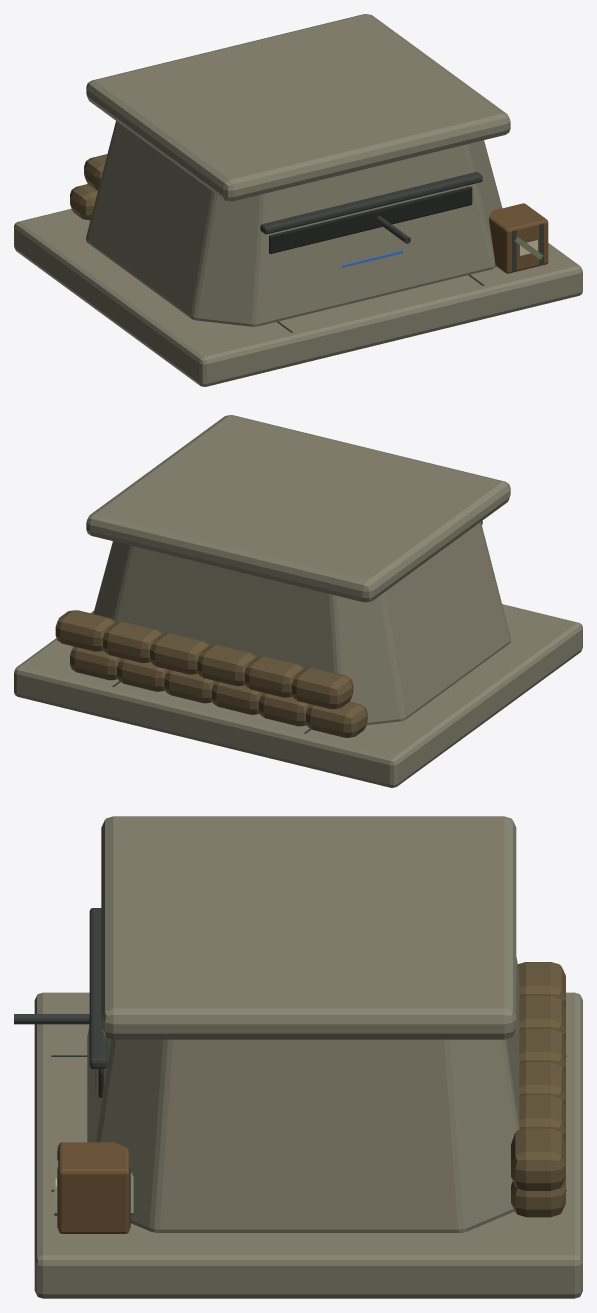
The model's file is bunker.glb.
3 views of the same model, one above another, from view 1: azimuth 30°, elevation 25°; view 2: azimuth 150°, elevation 25°; view 3: azimuth 270°, elevation 25° (orthographic). The views are drawn at different scales.
Visible parts, largest first — view 1: Concrete, Tracks, Steel, Timber, Canvas; view 2: Concrete, Canvas; view 3: Concrete, Canvas, Timber, Steel.
Boxes of the visible parts, x1,y1,x2,y2 form: Concrete: [14, 14, 582, 386]; Tracks: [269, 186, 472, 253]; Steel: [260, 172, 543, 332]; Timber: [489, 203, 548, 273]; Canvas: [70, 154, 107, 220]; Concrete: [14, 415, 582, 787]; Canvas: [55, 610, 367, 737]; Concrete: [34, 816, 582, 1298]; Canvas: [511, 962, 565, 1217]; Timber: [58, 1142, 129, 1233]; Steel: [14, 908, 566, 1228].
Size of the model in its own units: 4.3 by 1.9 by 3.84.
